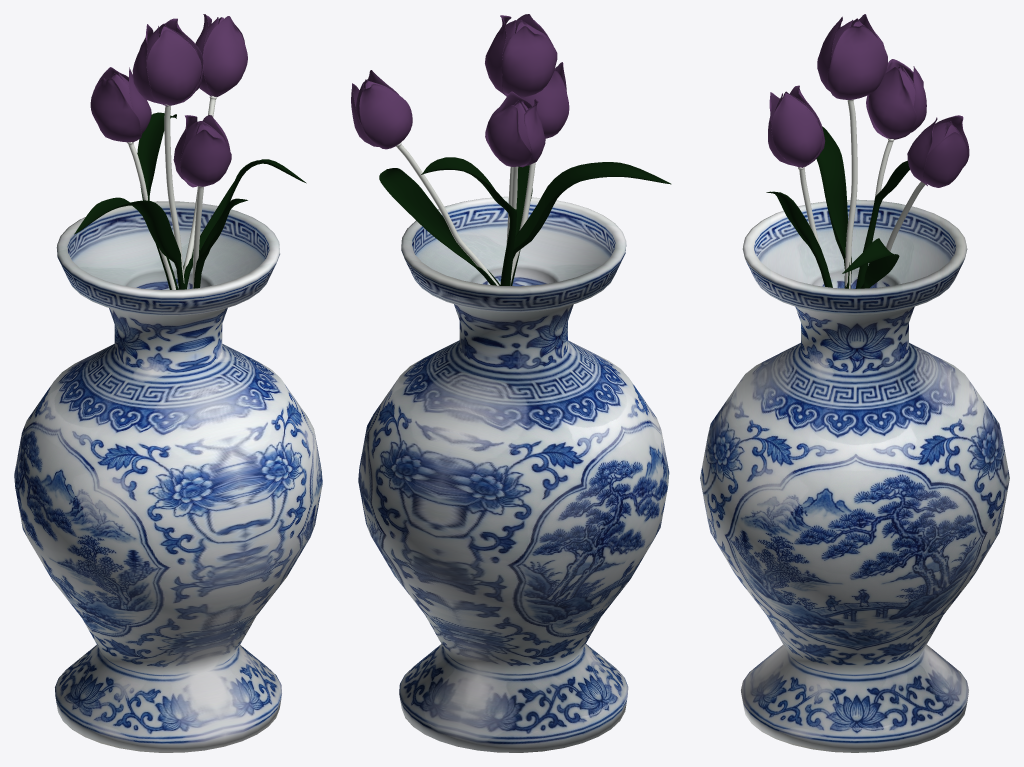
The model's file is L2_LR_Vase.fbx.
The picture shows the model from 3 angles, left to right: view 1: azimuth 30°, elevation 25°; view 2: azimuth 150°, elevation 25°; view 3: azimuth 270°, elevation 25°; orthographic projection.
Visible parts, largest first — view 1: L2_LR_Vase; view 2: L2_LR_Vase; view 3: L2_LR_Vase.
Boxes of the visible parts, box(x1,y1,x2,y2) form: L2_LR_Vase: box(14, 14, 322, 752); L2_LR_Vase: box(351, 14, 671, 752); L2_LR_Vase: box(700, 14, 1009, 752).
Bounding box in the file's own units: 0.2482 × 0.6052 × 0.2482.
Materials: 4 (2 with a texture image).
